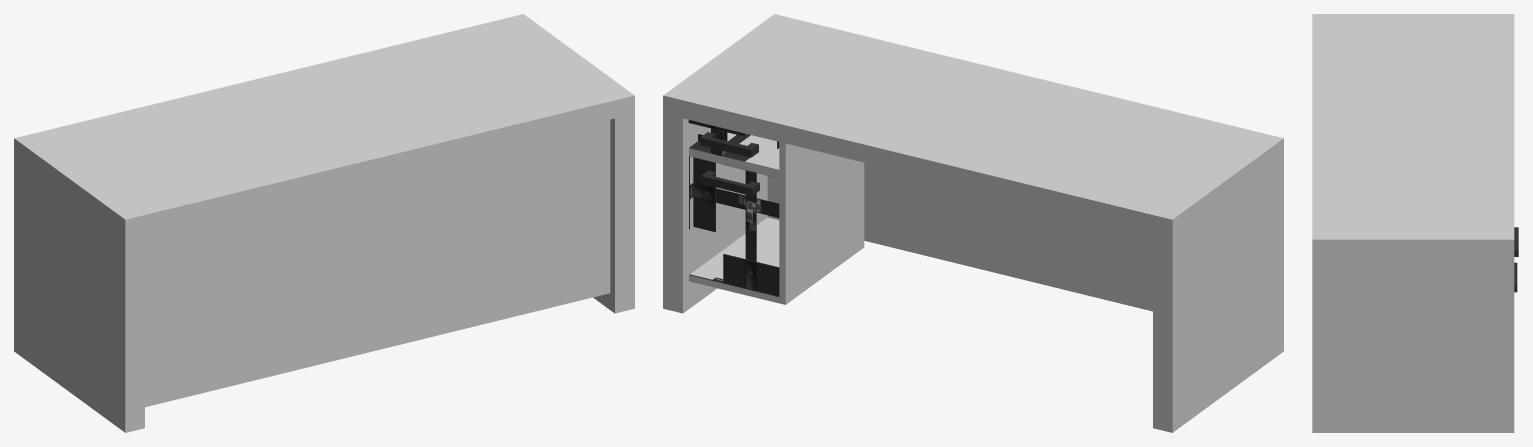
The model's file is cattedra.fbx.
The picture shows the model from 3 angles, left to right: view 1: azimuth 30°, elevation 25°; view 2: azimuth 150°, elevation 25°; view 3: azimuth 270°, elevation 25°; orthographic projection. The views are drawn at different scales.
Visible parts, largest first — view 1: StrutturaCattedra; view 2: StrutturaCattedra, Sportello, Cassetto; view 3: StrutturaCattedra.
Part boxes in pixels (box(x1,y1,x2,y2)): StrutturaCattedra: box(14, 14, 634, 432); StrutturaCattedra: box(663, 14, 1283, 432); Sportello: box(689, 156, 779, 296); Cassetto: box(688, 120, 779, 161); StrutturaCattedra: box(1312, 14, 1514, 432).
Size of the model in its own units: 500 by 200 by 193.
